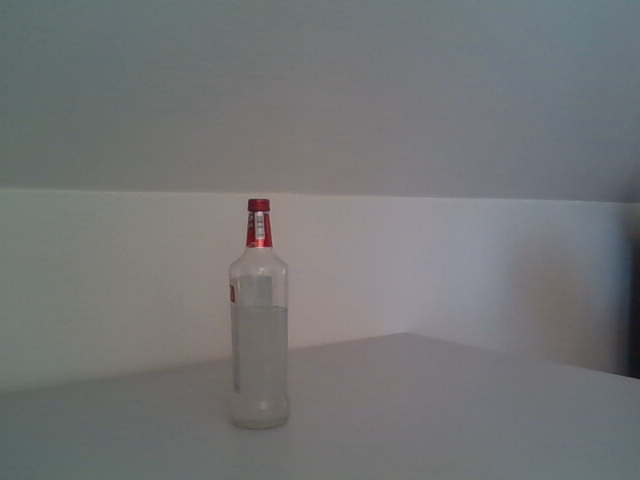bottle: (228, 198, 292, 430)
